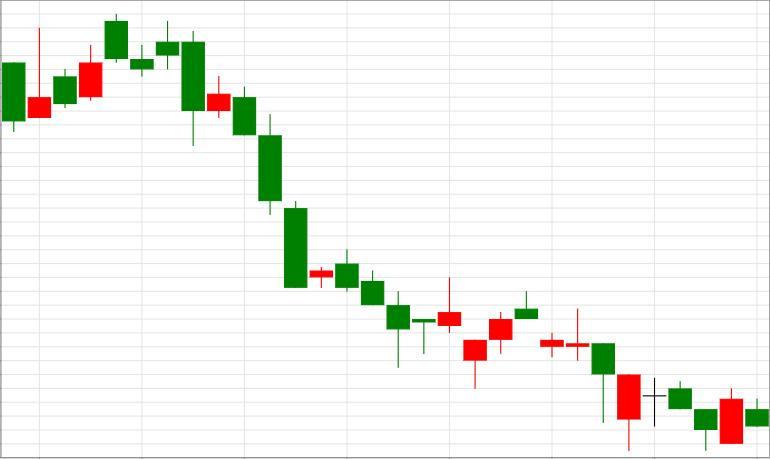hammer_rise: (515, 291, 614, 424)
